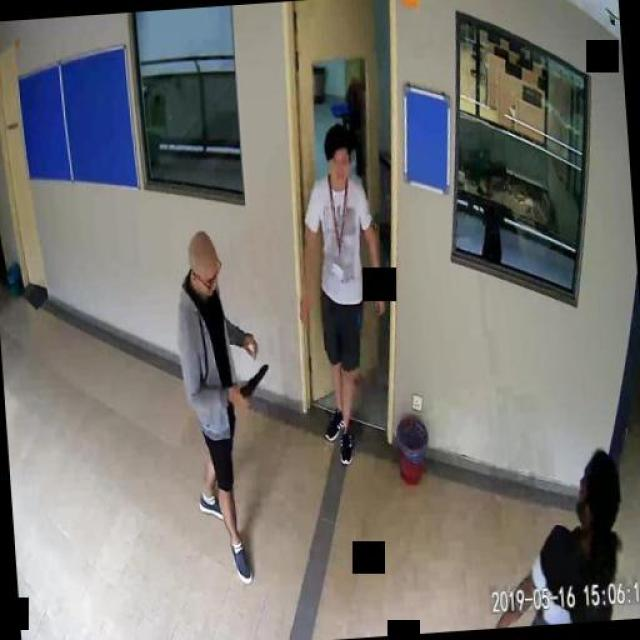gun: (234, 362, 270, 406)
